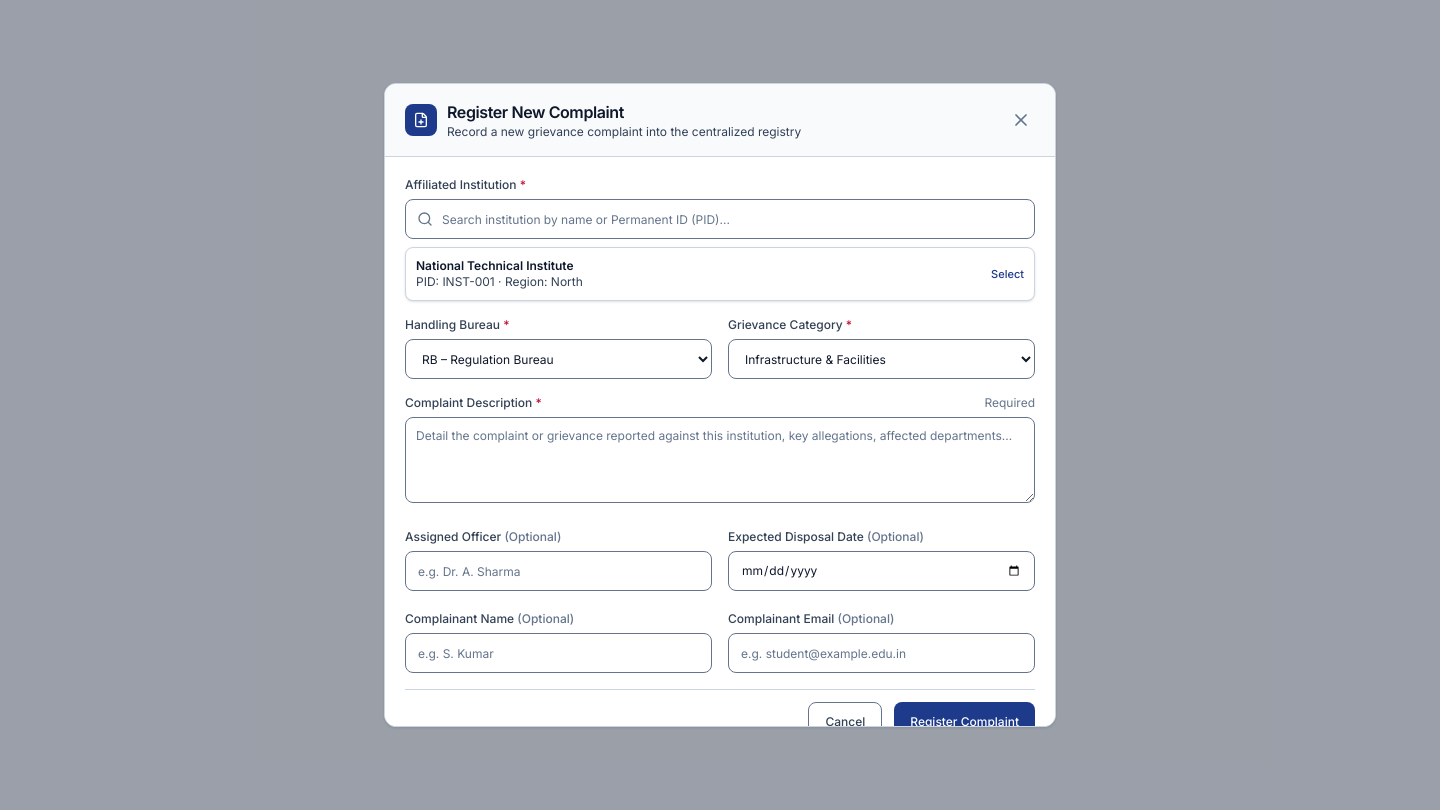
Test: NewComplaintModal UX & Overlap Decoupling › 3a. Scan failure keeps the saved confirmation intact
Click the text "National Technical Institute" at (499, 266), box [416,258,583,274]
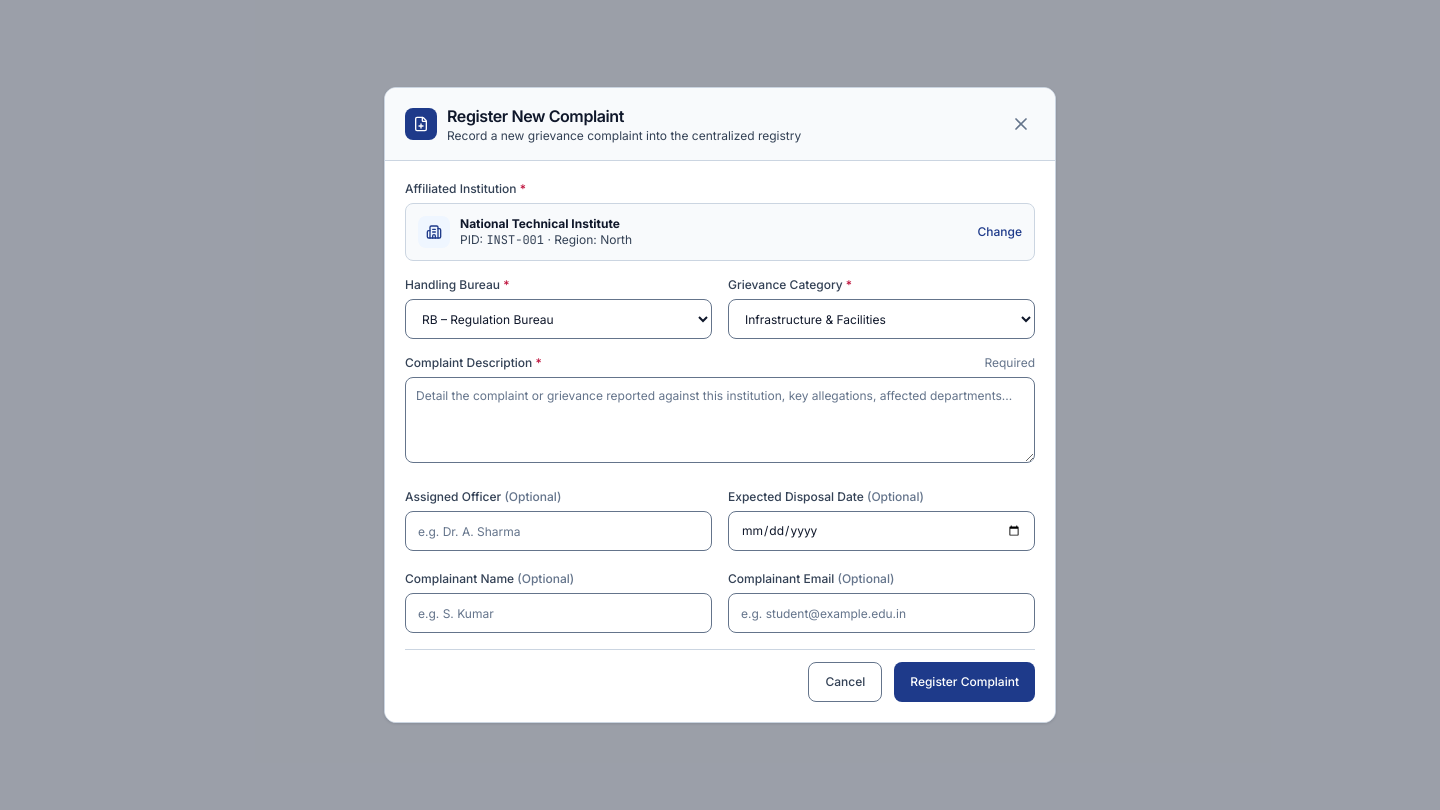
Replace the text in the text box labelled "Complaint Description *" with "Water leakage in main academic lab block" at (720, 420), box [405,377,1035,463]
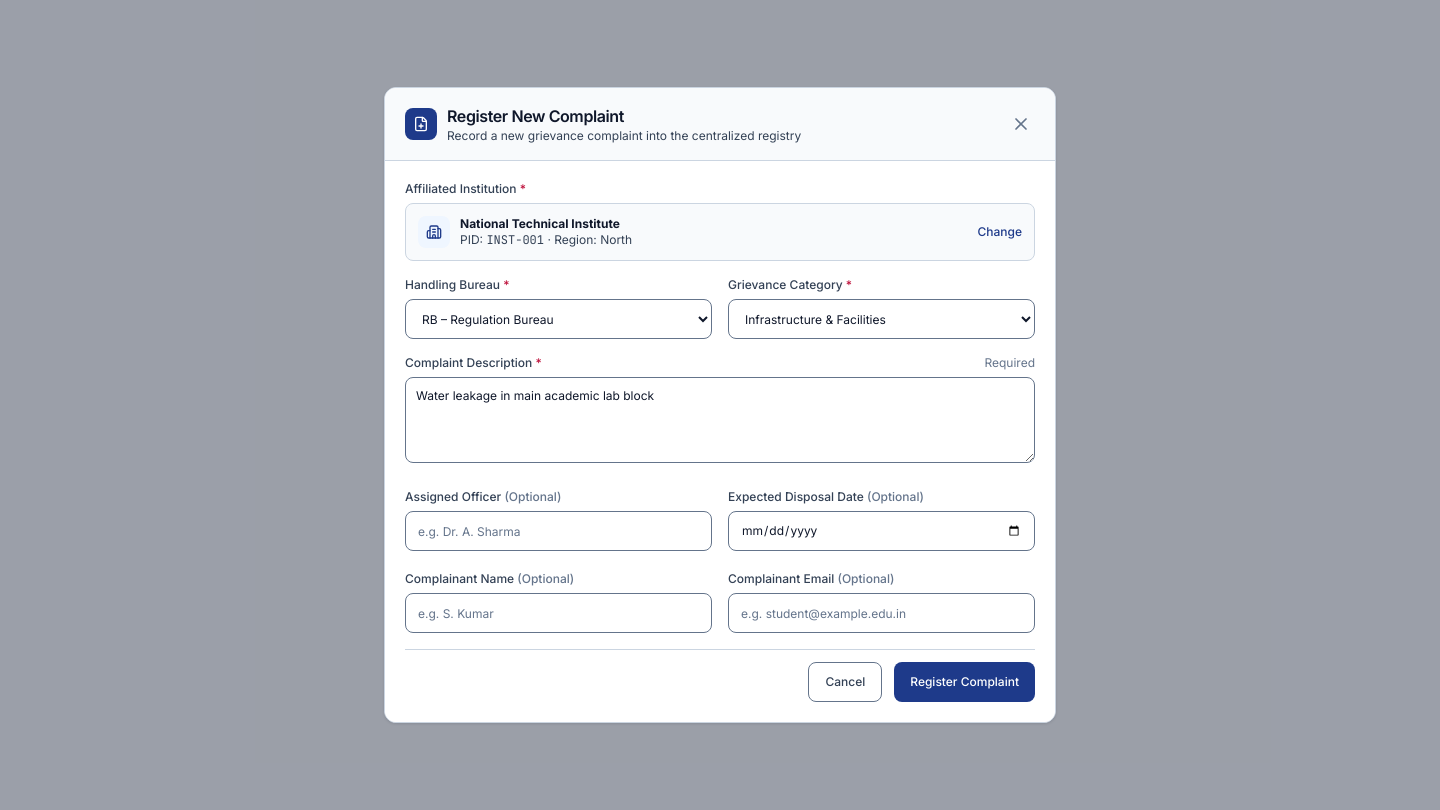
Click the button "Register Complaint" at (965, 682), box [894,662,1035,702]
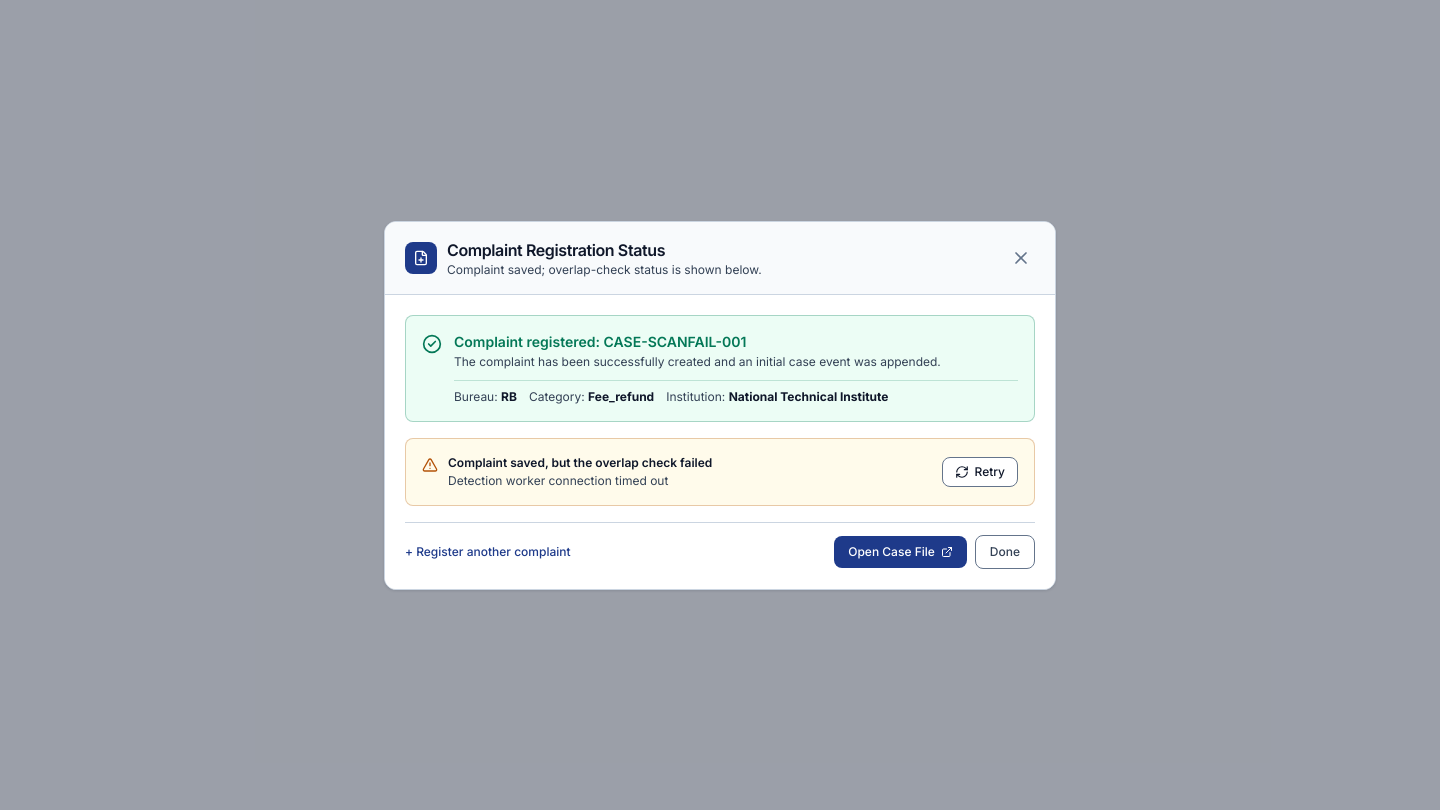
Expected: the heading "Complaint registered: CASE-SCANFAIL-001" is shown, [454,332,746,350]
Expected: the text "Complaint saved, but the overlap check failed" is shown, [448,454,712,470]
Expected: the text "Detection worker connection timed out" is shown, [448,472,668,488]
